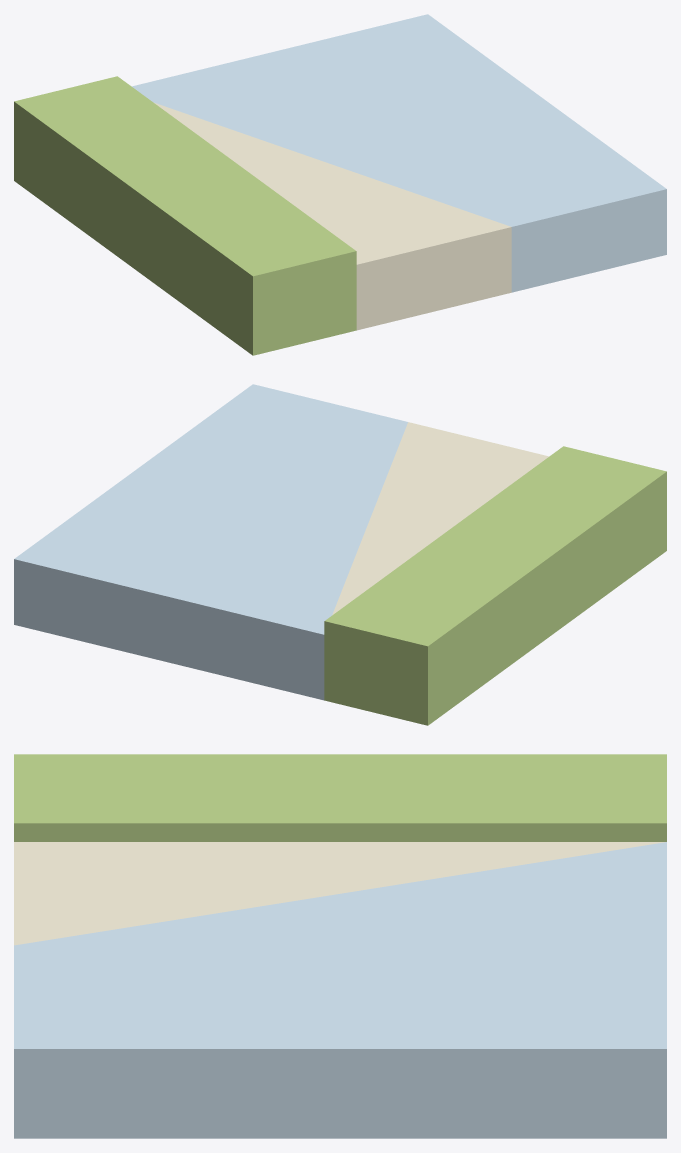
The model's file is road_tile_145.glb.
The picture shows the model from 3 angles, top to bottom: view 1: azimuth 30°, elevation 25°; view 2: azimuth 150°, elevation 25°; view 3: azimuth 270°, elevation 25°; orthographic projection. The views are drawn at different scales.
Parts seen in each view (by area): view 1: roadTile_145; view 2: roadTile_145; view 3: roadTile_145.
Boxes of the visible parts, box(x1,y1,x2,y2) form: roadTile_145: box(14, 14, 666, 355); roadTile_145: box(14, 384, 666, 725); roadTile_145: box(14, 754, 666, 1138).
Size of the model in its own units: 3 by 0.55 by 3.
